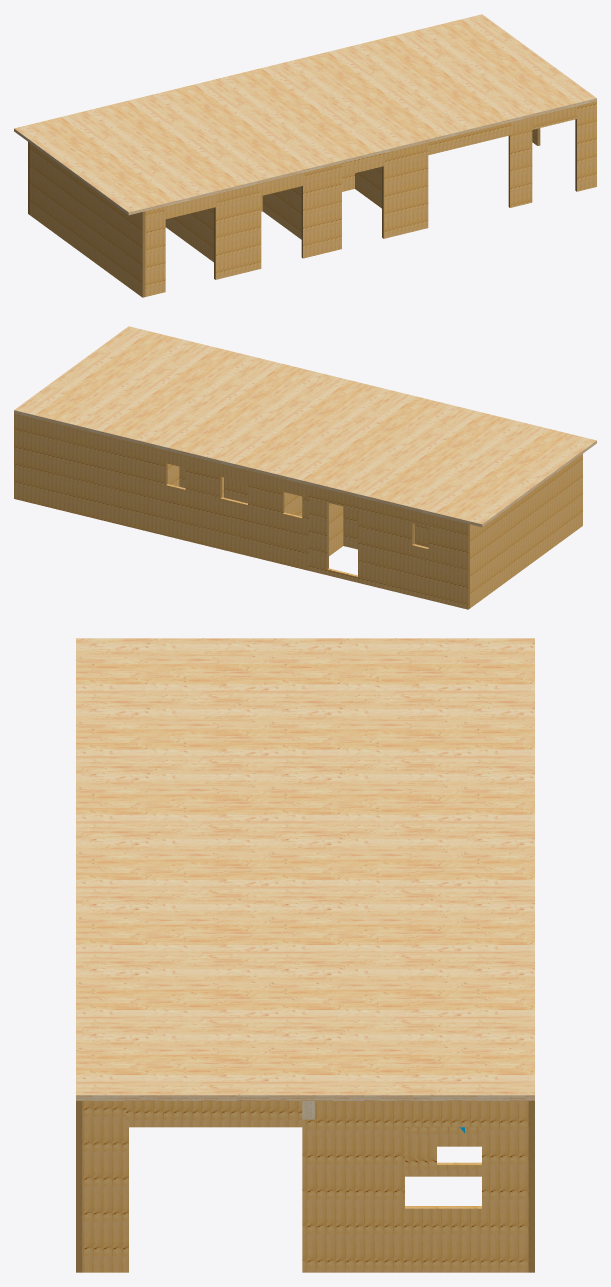
The model's file is MON_DOM4.glb.
3 views of the same model, one above another, from view 1: azimuth 30°, elevation 25°; view 2: azimuth 150°, elevation 25°; view 3: azimuth 270°, elevation 25° (orthographic). The views are drawn at different scales.
Parts seen in each view (by area): view 1: HlzSys 100/0 Brd:0_32, HlzSys 1/0 Brd:1, HlzSys 7/0 Brd:1, HlzSys 4/0 Brd:1, HlzSys 3/0 Brd:1, HlzSys 2/0 Brd:1, HlzSys 5/0 Brd:1, HlzSys 6/0 Brd:1, HlzSys 100/0 Brd:0_22, HlzSys 100/0 Brd:0_24, HlzSys 100/0 Brd:0_26, HlzSys 100/0 Brd:0_18 (+10 smaller); view 2: HlzSys 100/0 Brd:0_14, HlzSys 100/0 Brd:0_16, HlzSys 100/0 Brd:0_32, HlzSys 1/0 Brd:1, HlzSys 3/0 Brd:1, HlzSys 6/0 Brd:1, HlzSys 7/0 Brd:1, HlzSys 5/0 Brd:1, HlzSys 4/0 Brd:1, HlzSys 2/0 Brd:1, HlzSys 100/0 Brd:0_58, HlzSys 100/0 Brd:0_34 (+1 smaller); view 3: HlzSys 7/0 Brd:1, HlzSys 100/0 Brd:0_42, HlzSys 4/0 Brd:1, HlzSys 1/0 Brd:1, HlzSys 6/0 Brd:1, HlzSys 2/0 Brd:1, HlzSys 3/0 Brd:1, HlzSys 5/0 Brd:1, HlzSys 100/0 Brd:0_30, HlzSys 100/0 Brd:0_10, HlzSys 100/0 Brd:0_54, HlzSys 100/0 Brd:0_14 (+2 smaller).
Part boxes in pixels (x1,y1,x2,y2): HlzSys 100/0 Brd:0_32: (29,143,145,297); HlzSys 1/0 Brd:1: (14,112,196,215); HlzSys 7/0 Brd:1: (415,14,596,117); HlzSys 4/0 Brd:1: (214,63,396,166); HlzSys 3/0 Brd:1: (149,79,329,182); HlzSys 2/0 Brd:1: (81,95,262,198); HlzSys 5/0 Brd:1: (282,47,463,149); HlzSys 6/0 Brd:1: (349,31,528,133); HlzSys 100/0 Brd:0_22: (214,183,261,279); HlzSys 100/0 Brd:0_24: (382,142,428,238); HlzSys 100/0 Brd:0_26: (301,163,341,258); HlzSys 100/0 Brd:0_18: (508,117,532,207); HlzSys 100/0 Brd:0_14: (14,413,308,570); HlzSys 100/0 Brd:0_16: (308,485,469,609); HlzSys 100/0 Brd:0_32: (470,454,582,608); HlzSys 1/0 Brd:1: (414,424,596,527); HlzSys 3/0 Brd:1: (280,391,462,494); HlzSys 6/0 Brd:1: (80,342,262,445); HlzSys 7/0 Brd:1: (14,326,195,429); HlzSys 5/0 Brd:1: (147,359,329,461); HlzSys 4/0 Brd:1: (214,375,395,477); HlzSys 2/0 Brd:1: (347,408,528,510); HlzSys 100/0 Brd:0_58: (179,466,357,549); HlzSys 100/0 Brd:0_34: (329,503,343,555); HlzSys 7/0 Brd:1: (76,1029,534,1100); HlzSys 100/0 Brd:0_42: (302,1101,528,1272); HlzSys 4/0 Brd:1: (76,833,534,899); HlzSys 1/0 Brd:1: (76,638,534,704); HlzSys 6/0 Brd:1: (76,963,534,1030); HlzSys 2/0 Brd:1: (76,703,534,769); HlzSys 3/0 Brd:1: (76,768,534,834); HlzSys 5/0 Brd:1: (76,898,534,964); HlzSys 100/0 Brd:0_30: (82,1101,128,1272); HlzSys 100/0 Brd:0_10: (126,1101,305,1127); HlzSys 100/0 Brd:0_54: (405,1127,481,1176); HlzSys 100/0 Brd:0_14: (528,1101,534,1272).
Size of the model in its own units: 16.85 by 3.05 by 7.15.
Materials: 8 (6 with a texture image).
